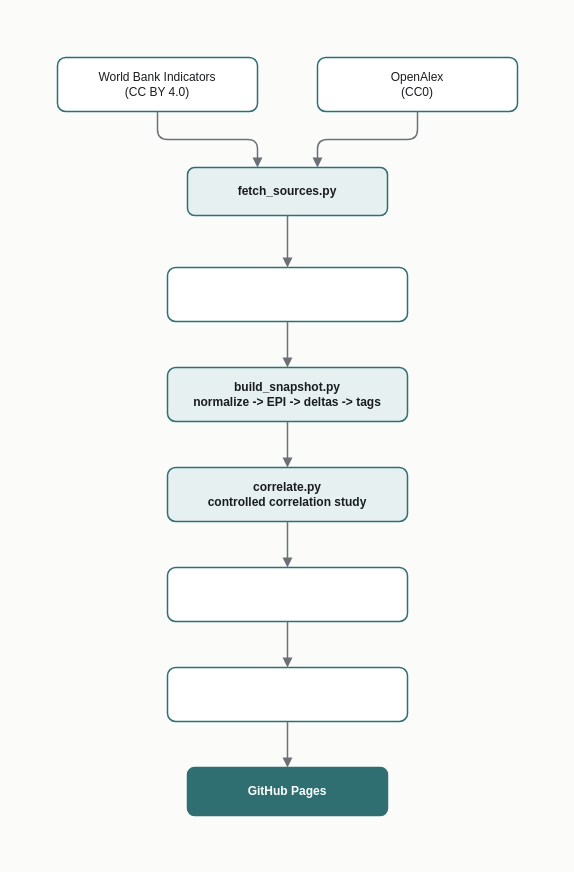
Image size: 574x872. Some labels were removed from this diagram. Here are the shapes that lost their labels. From the top down, the centre of each, then its label:
(x=287, y=294): data/sources/*.csv + overlay.json (cited raw extracts)
(x=287, y=594): docs/data/snapshots/*.json + manifest.json
(x=287, y=694): Static PWA (docs/) ECharts, offline-capable
